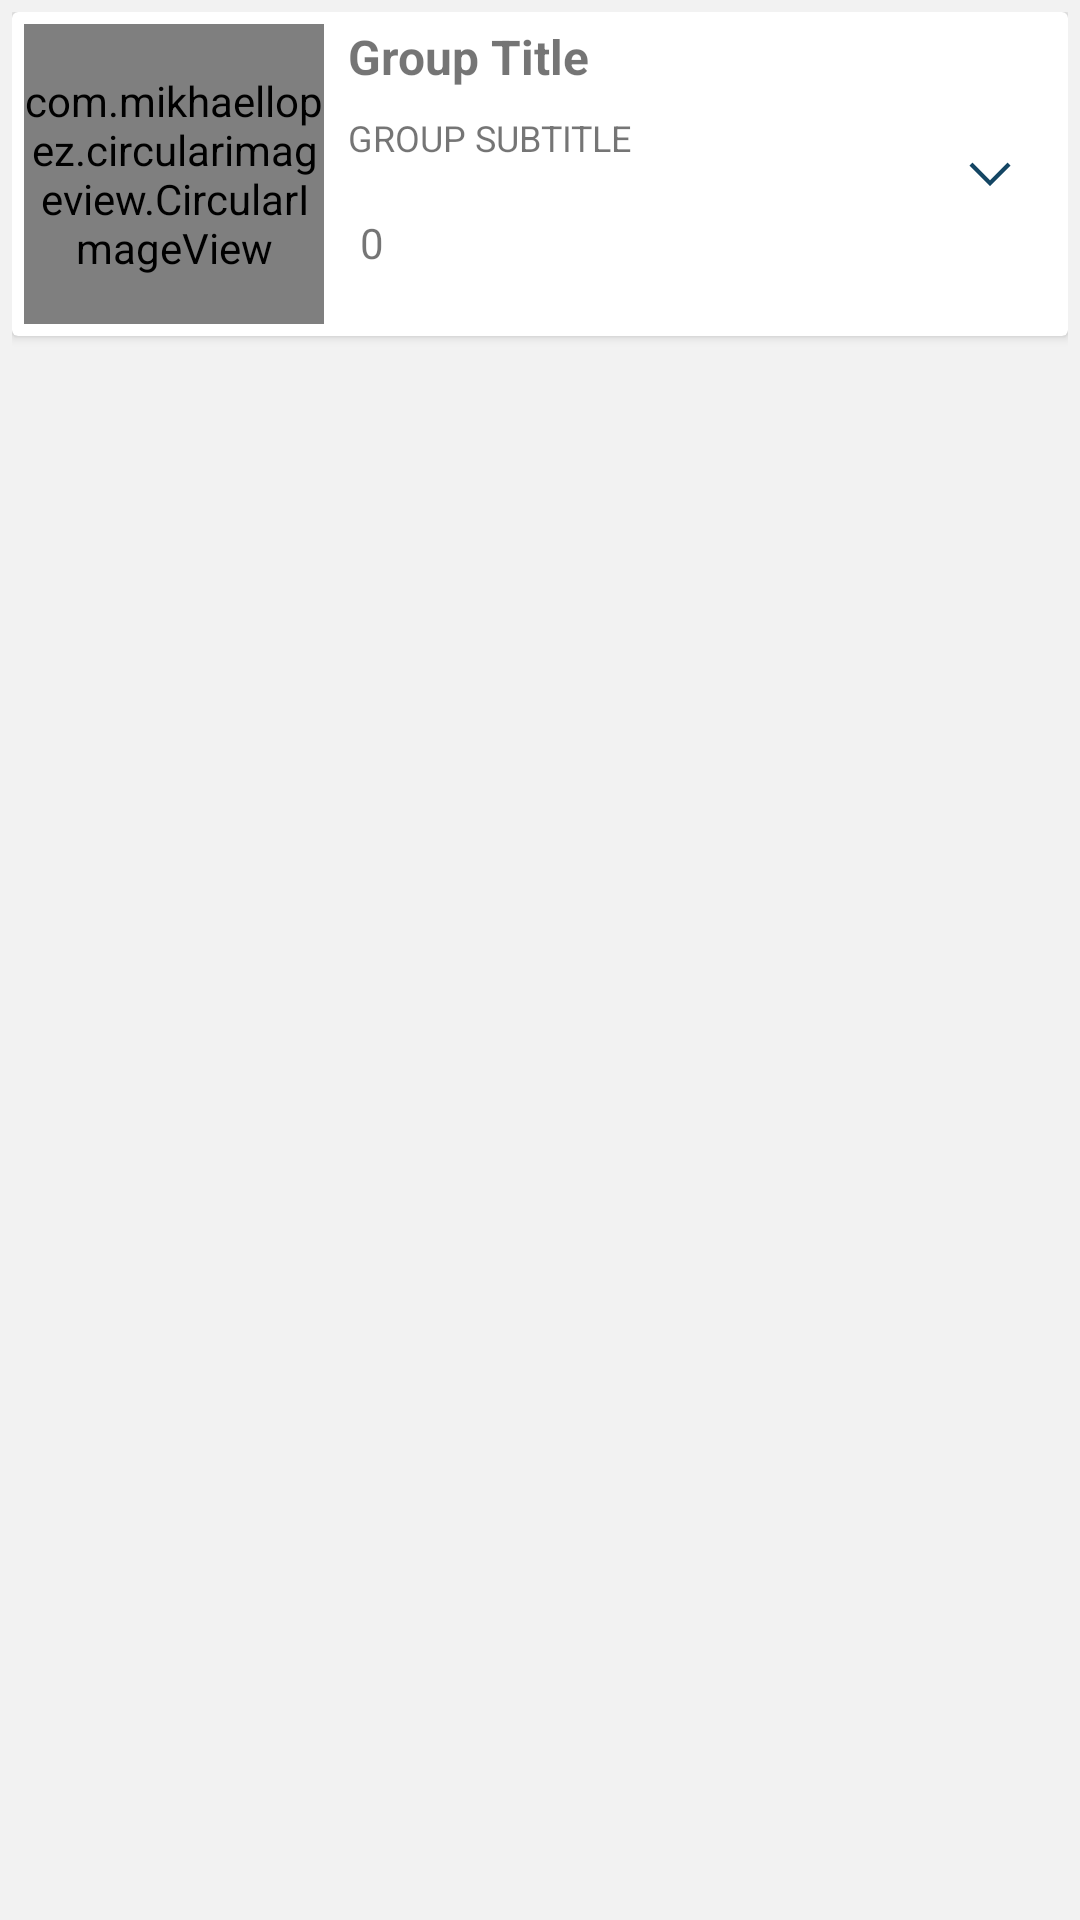

Point at icon controls on the screen. Image size 1080w x 1920h, points as [x,y].
arrowdown: [990,174]
